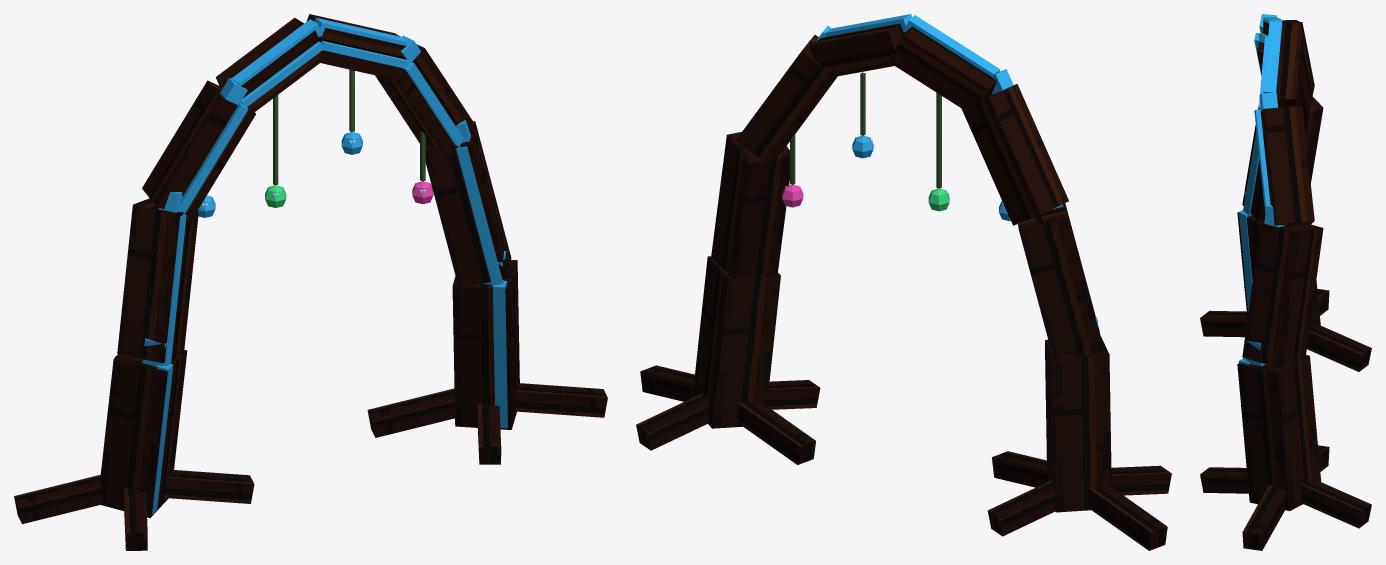
The model's file is glowroot_arch.glb.
3 views of the same model, side by side, from view 1: azimuth 30°, elevation 25°; view 2: azimuth 150°, elevation 25°; view 3: azimuth 270°, elevation 25° (orthographic). The views are drawn at different scales.
Visible parts, largest first — view 1: glowroot_arch; view 2: glowroot_arch; view 3: glowroot_arch.
Part boxes in pixels (left/top/right/bottom): glowroot_arch: left=14, top=14, right=607, bottom=550; glowroot_arch: left=636, top=14, right=1171, bottom=550; glowroot_arch: left=1200, top=14, right=1371, bottom=550.
Size of the model in its own units: 4.73 by 3.65 by 1.39.
Materials: 3 (1 with a texture image).
